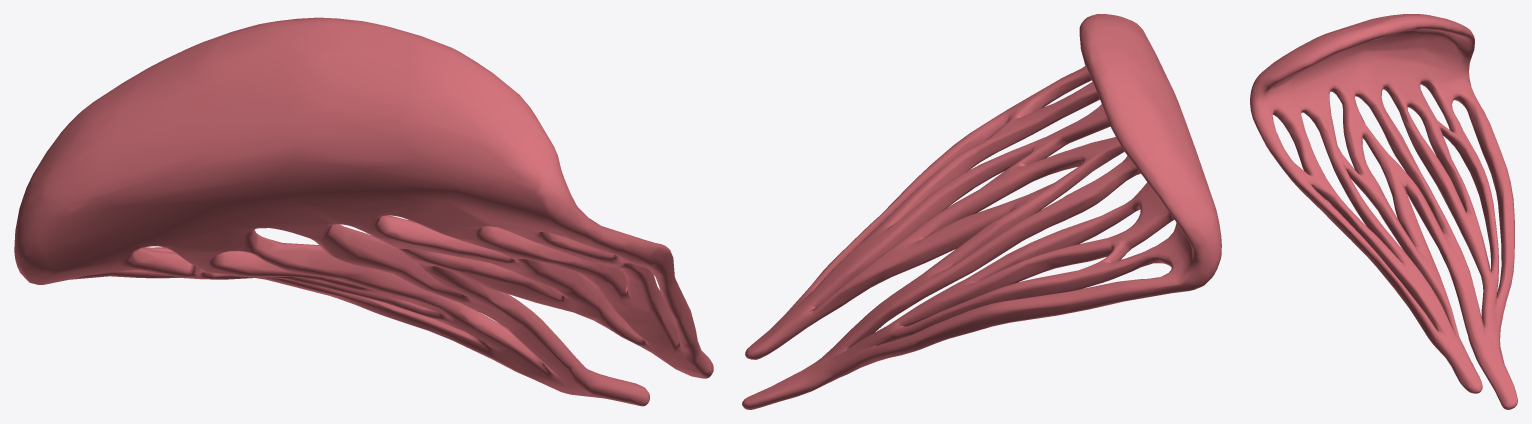
3 views of the same model, side by side, from view 1: azimuth 30°, elevation 25°; view 2: azimuth 150°, elevation 25°; view 3: azimuth 270°, elevation 25° (orthographic). The views are drawn at different scales.
Visible parts, largest first — view 1: 二尖瓣后尖; view 2: 二尖瓣后尖; view 3: 二尖瓣后尖.
Part boxes in pixels (x1,y1,x2,y2): 二尖瓣后尖: [14, 17, 713, 406]; 二尖瓣后尖: [742, 14, 1221, 409]; 二尖瓣后尖: [1250, 14, 1517, 409].
Size of the model in its own units: 0.0751 by 0.0577 by 0.0489.
